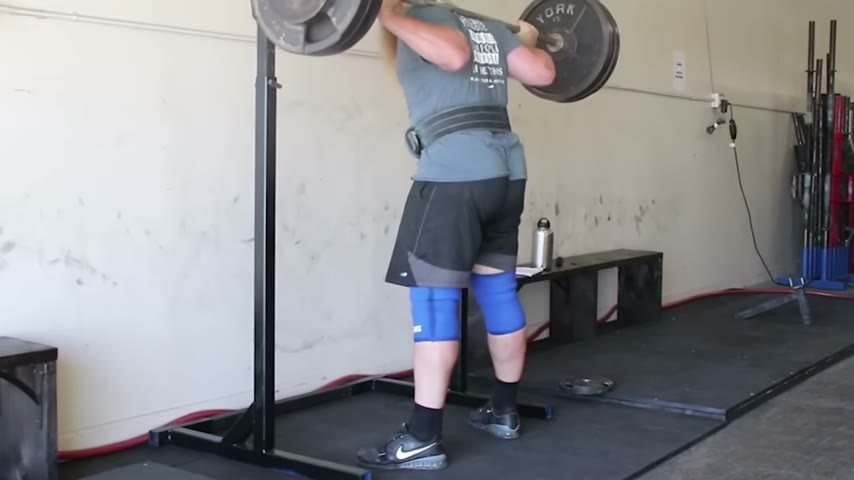barbell_plate_side: (511, 0, 622, 116)
